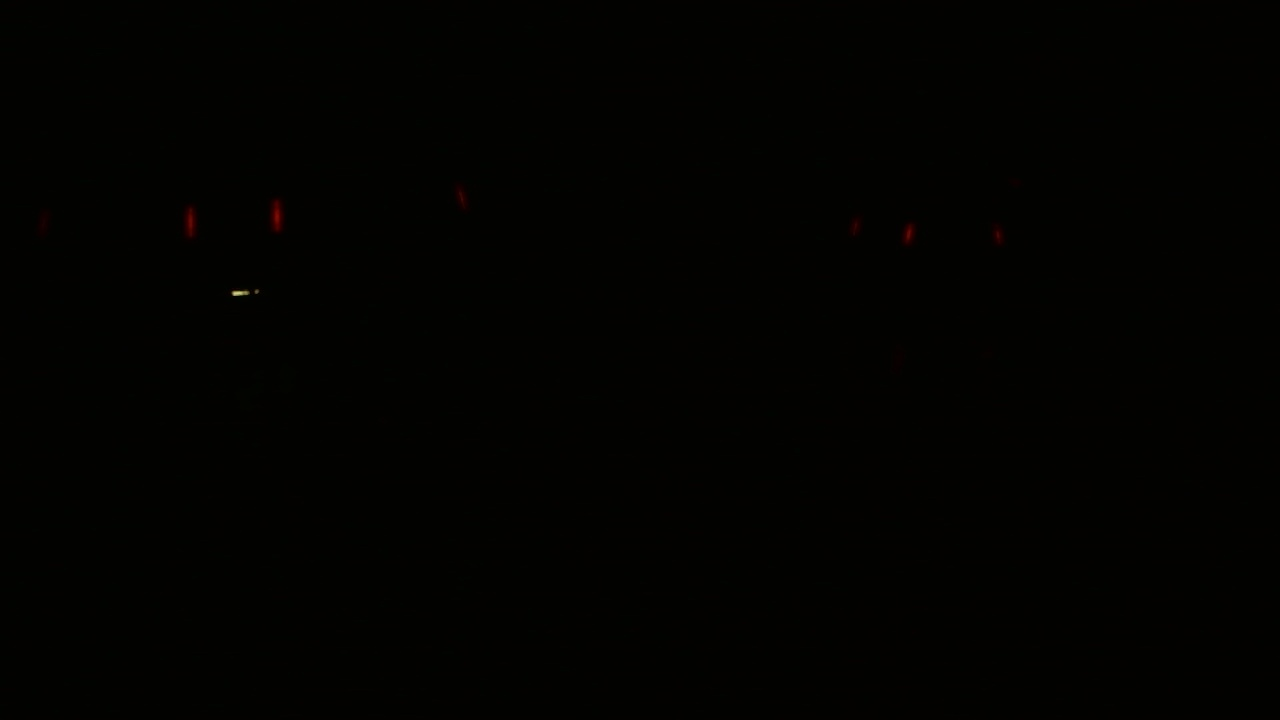pair1: (178, 200, 287, 239), (847, 209, 918, 244)
